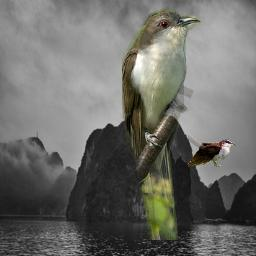Cuckoo: (122, 3, 201, 240), (188, 121, 236, 168)
